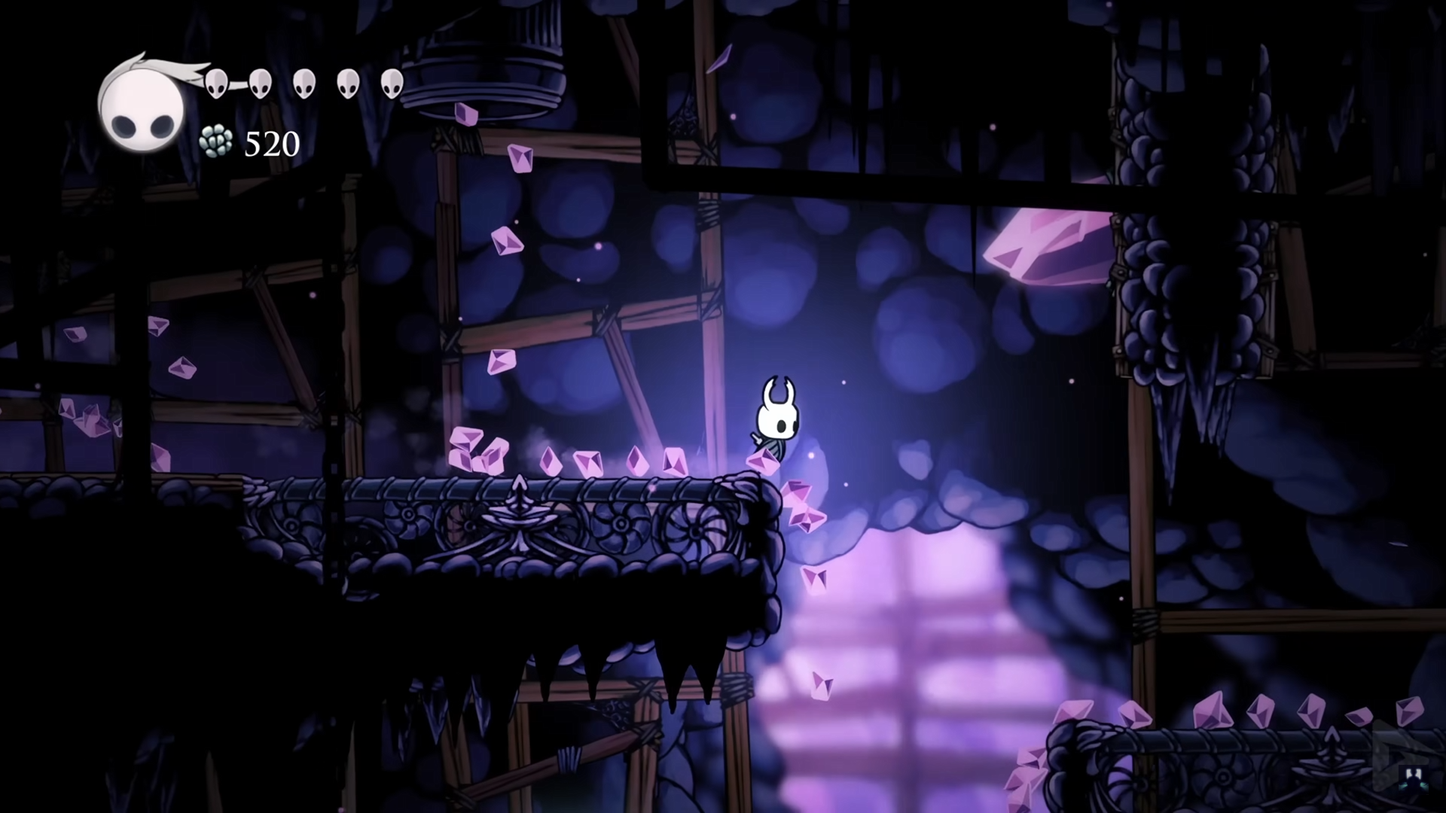HK: (746, 371, 805, 471)
